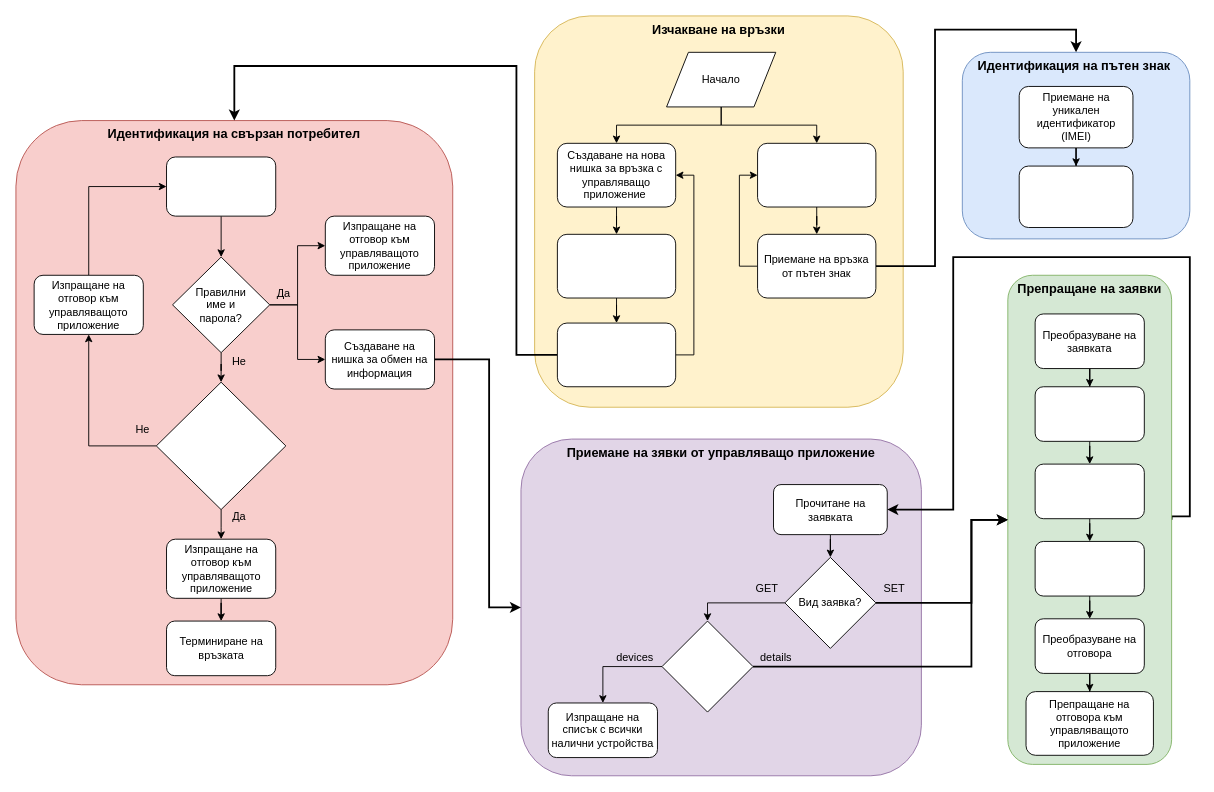
Some shapes in this 1214 by 792 pixel diagram are drawn without their labels. The centre of each missing label's shape, as x and y in pixels:
"Добавяне на SSL/TLS към връзката" goes at point 616,354.
"Добавяне на пътния знак към списъка с налични знаци" goes at point 1075,196.
"Изчакване на отговор" goes at point 1089,491.
"Прекалено много опити за идентификация?" goes at point 220,445.
"Препращане към пътен знак" goes at point 1089,413.
"Приемане на връзка от управляващо приложение" goes at point 616,265.
"Приемане на опит за идентификация (име и парола)" goes at point 221,186.
"Приемане на отговор" goes at point 1089,568.
"Стойност на заявката?" goes at point 707,666.
"Създаване на нова нишка за връзка с пътен знак" goes at point 816,174.
